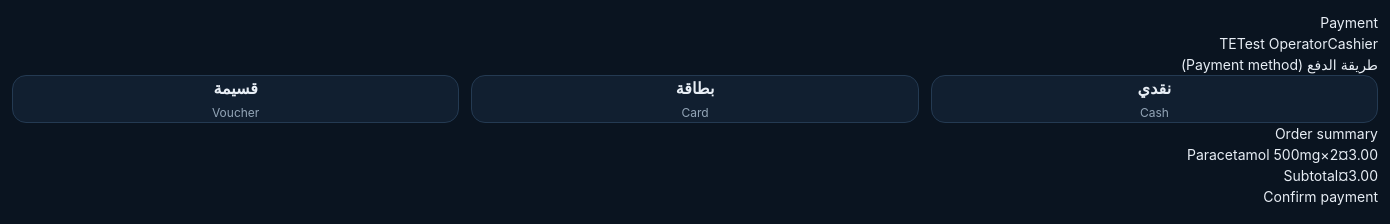
Test case: PaymentSurface — payments.confirm button (T152) › transitions to a settled placeholder after confirm ok (FR-031)
Click the button with test id "payment-surface-confirm" at (1321, 196), box [1263,186,1378,207]
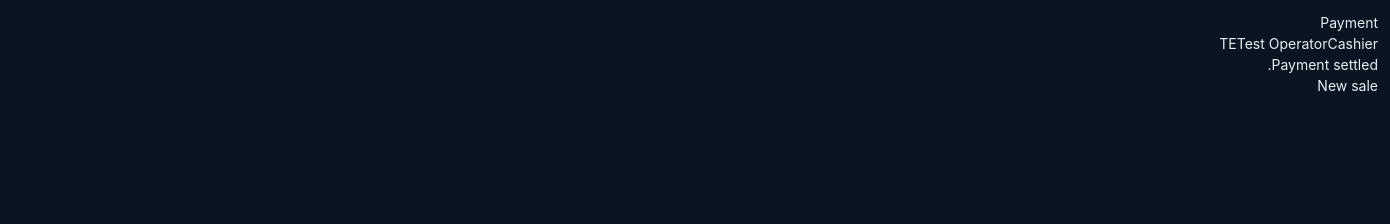
Now the message "Payment settled." is shown, box [1267,56,1378,73]
